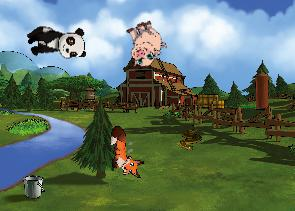fox: (109, 126, 144, 178)
panda: (26, 26, 86, 59)
pig: (118, 16, 170, 70)
